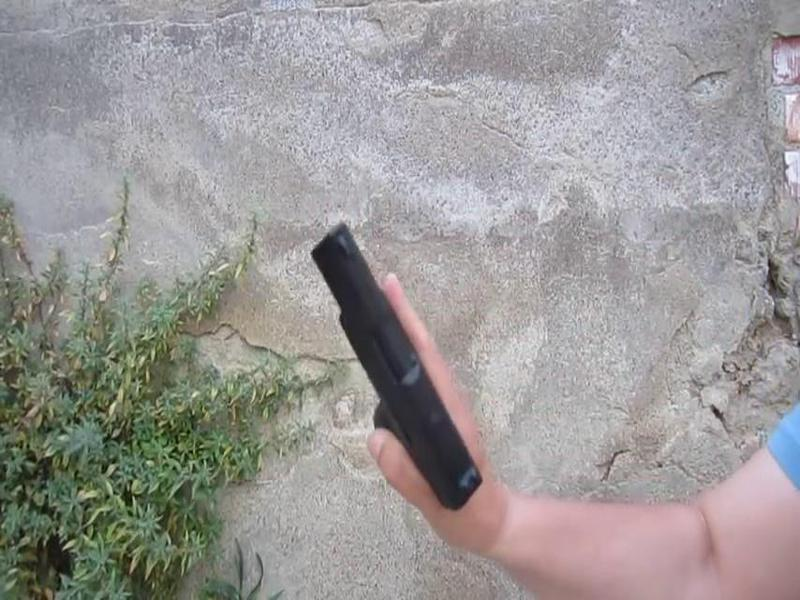Pistola: (285, 205, 494, 519)
